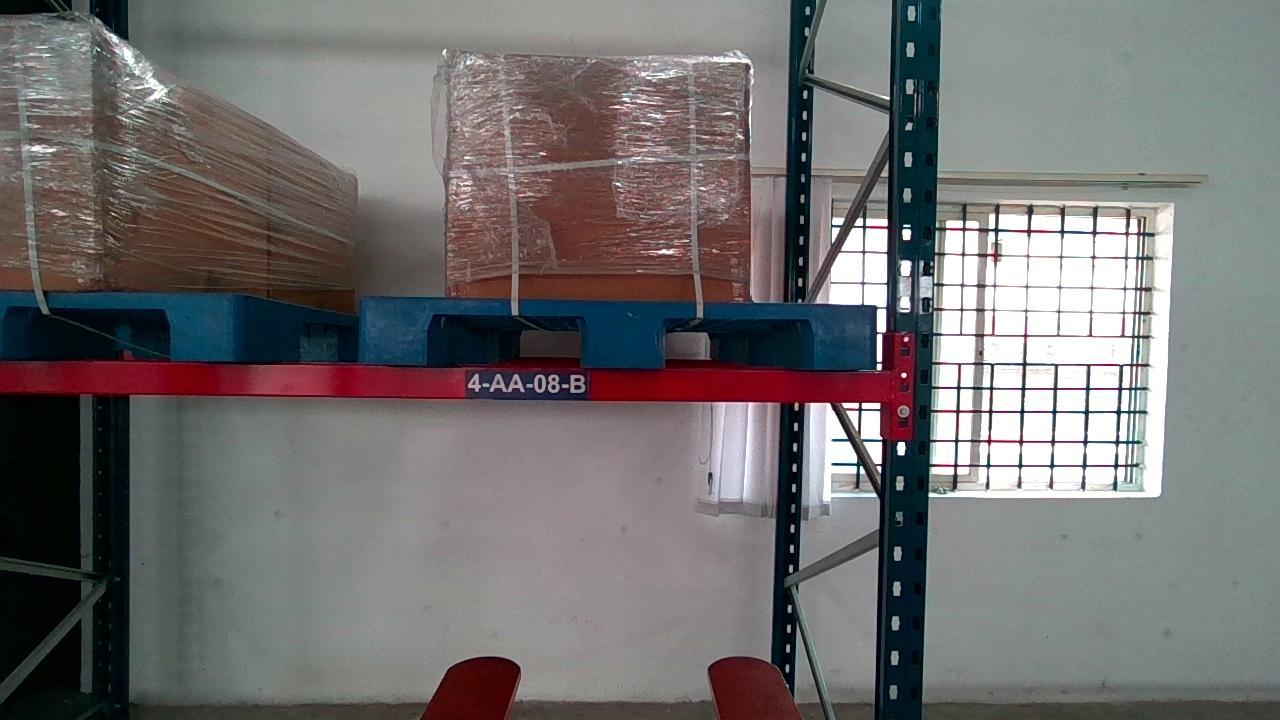h_rack: (0, 358, 897, 403)
small_pallet: (361, 296, 877, 369), (0, 292, 236, 364)
